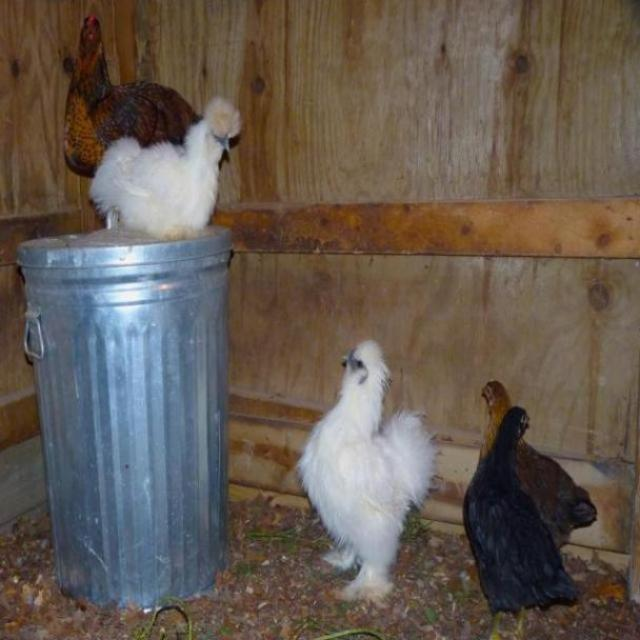Chicken: (299, 344, 439, 610), (461, 403, 587, 640), (60, 10, 206, 179), (475, 377, 601, 558), (88, 91, 243, 233)
